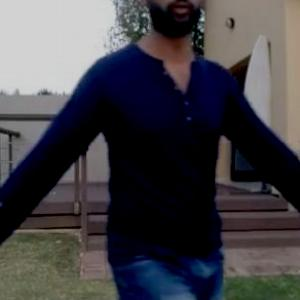land: (7, 3, 299, 296)
